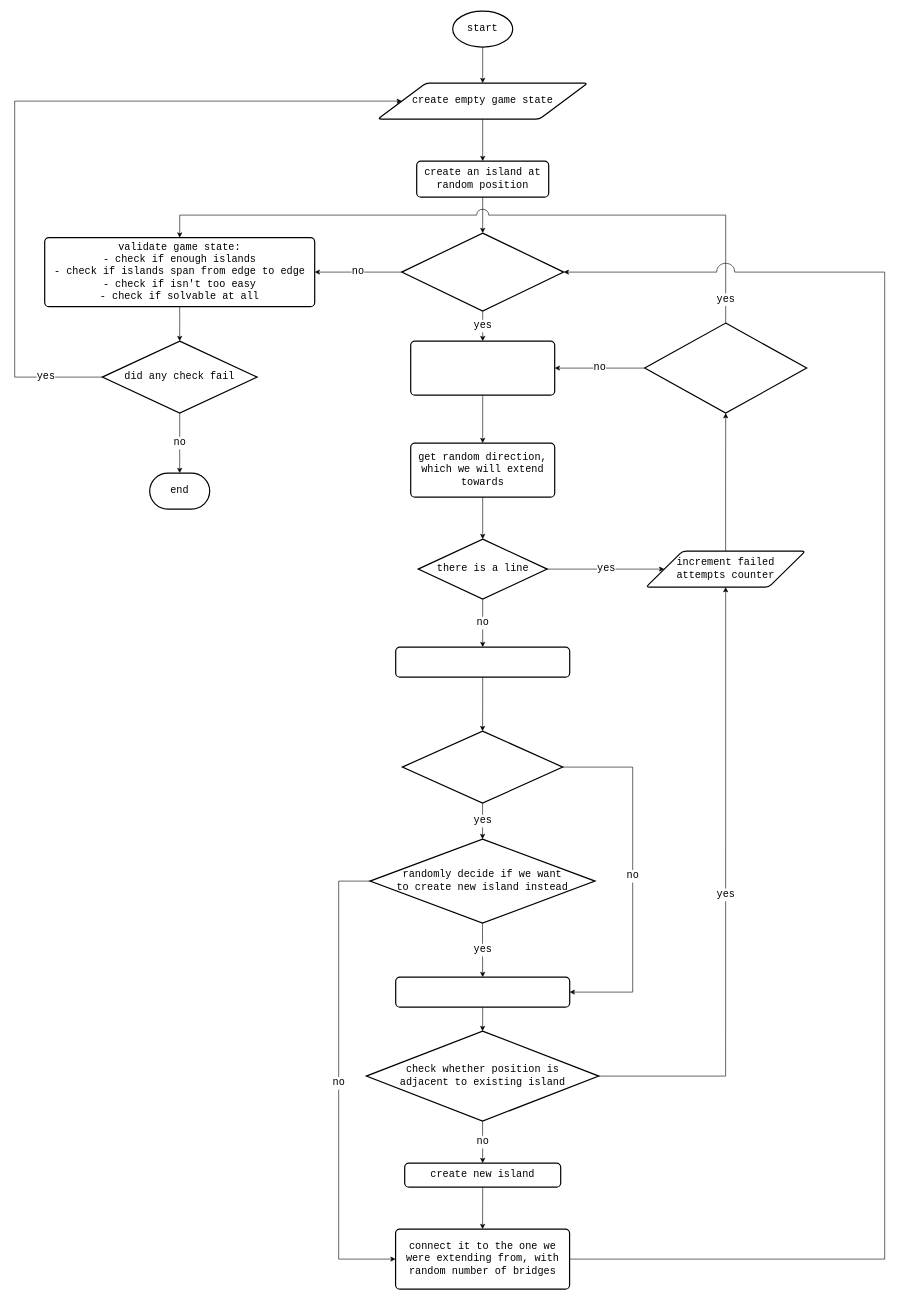
This 900x1300 diagram has some shape labels left out. Here are the shapes that lost their labels. From the top down, the box of each, then its label:
(401, 232, 564, 311): generated islands < requested islands
(410, 340, 555, 395): get random island, which we will extend from
(644, 322, 807, 413): failed > max_failed_allowed
(395, 646, 570, 677): find how far can we extend
(401, 730, 563, 803): found an island to extend to
(395, 976, 570, 1007): get random position from found range
